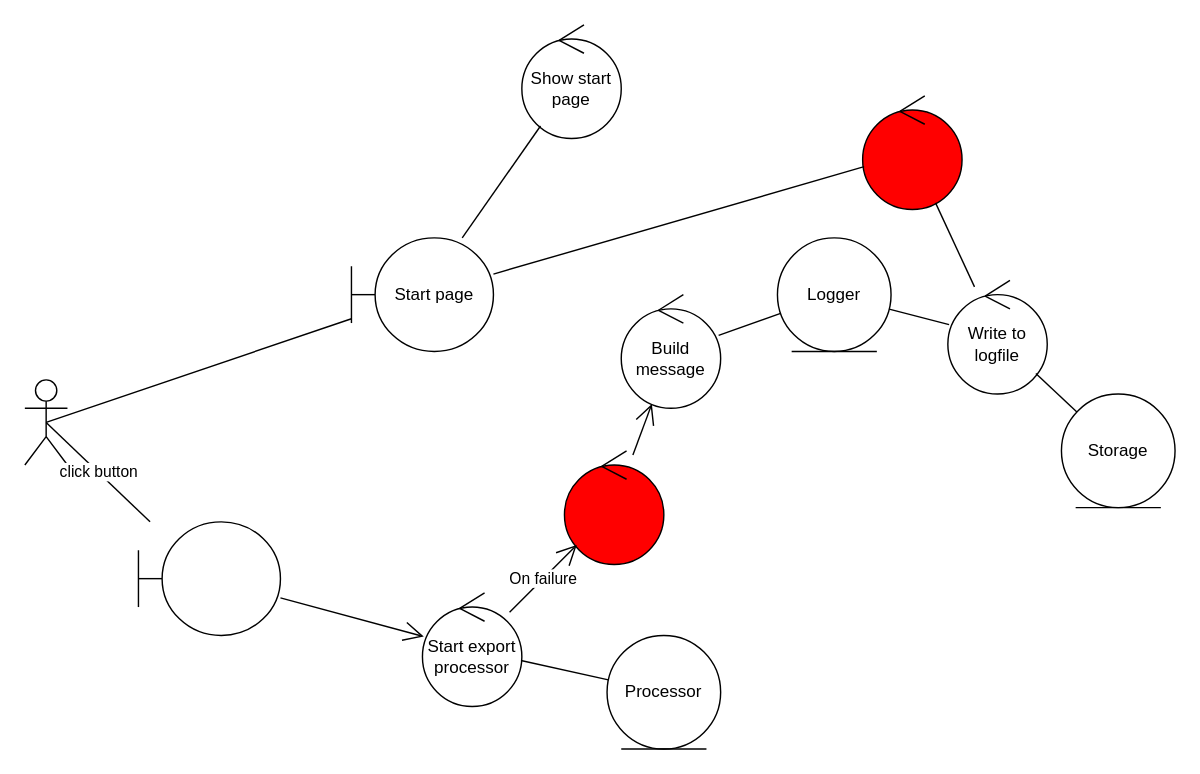
Some shapes in this 1200 by 774 pixel diagram are drawn without their labels. Each missing label, with the centre of its shape:
"Error in logging" goes at point (911, 151).
"Execute" goes at point (208, 577).
"Stop processing" goes at point (613, 506).
"User" goes at point (45, 421).
